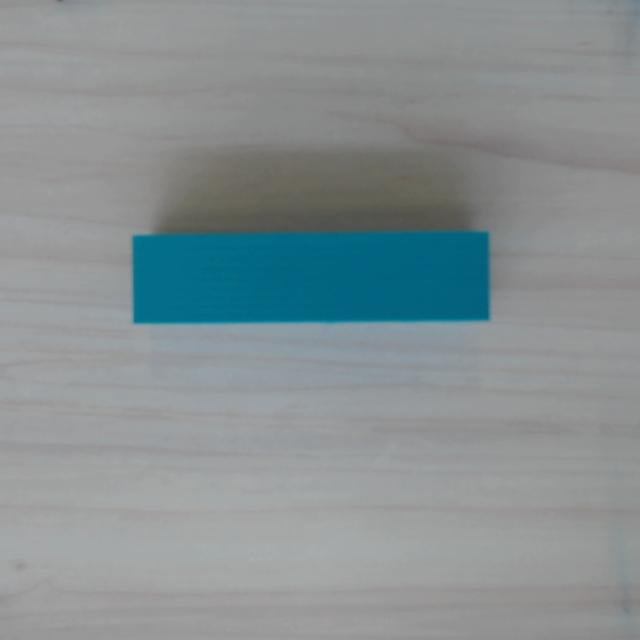Balok-Hijau-1002525: (133, 231, 490, 324)
